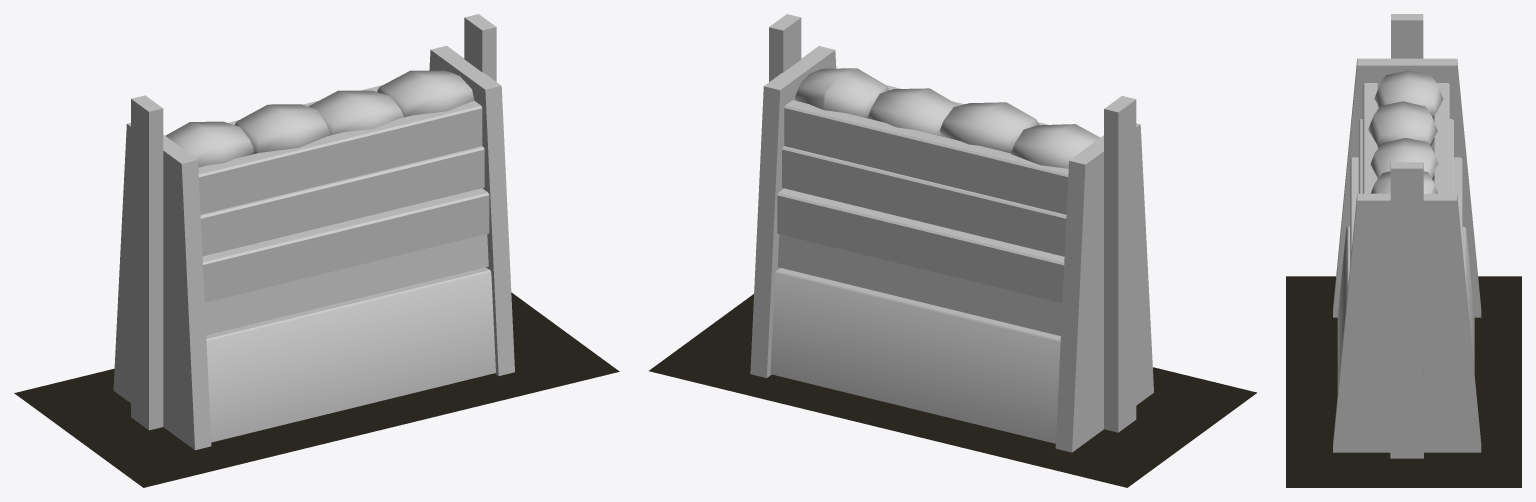
The model's file is Wall_01.FBX.
3 renders of one model, left to right at view 1: azimuth 30°, elevation 25°; view 2: azimuth 150°, elevation 25°; view 3: azimuth 270°, elevation 25°, orthographic. The views are drawn at different scales.
Visible parts, largest first — view 1: Box028, Plane050; view 2: Box028, Plane050; view 3: Box028, Plane050.
Part boxes in pixels (bbox=[...]): Box028: bbox=[113, 14, 514, 450]; Plane050: bbox=[14, 292, 619, 487]; Box028: bbox=[750, 14, 1153, 452]; Plane050: bbox=[649, 294, 1256, 487]; Box028: bbox=[1333, 14, 1481, 458]; Plane050: bbox=[1286, 276, 1521, 487].
Bounding box in the file's own units: 557 × 356 × 262.
